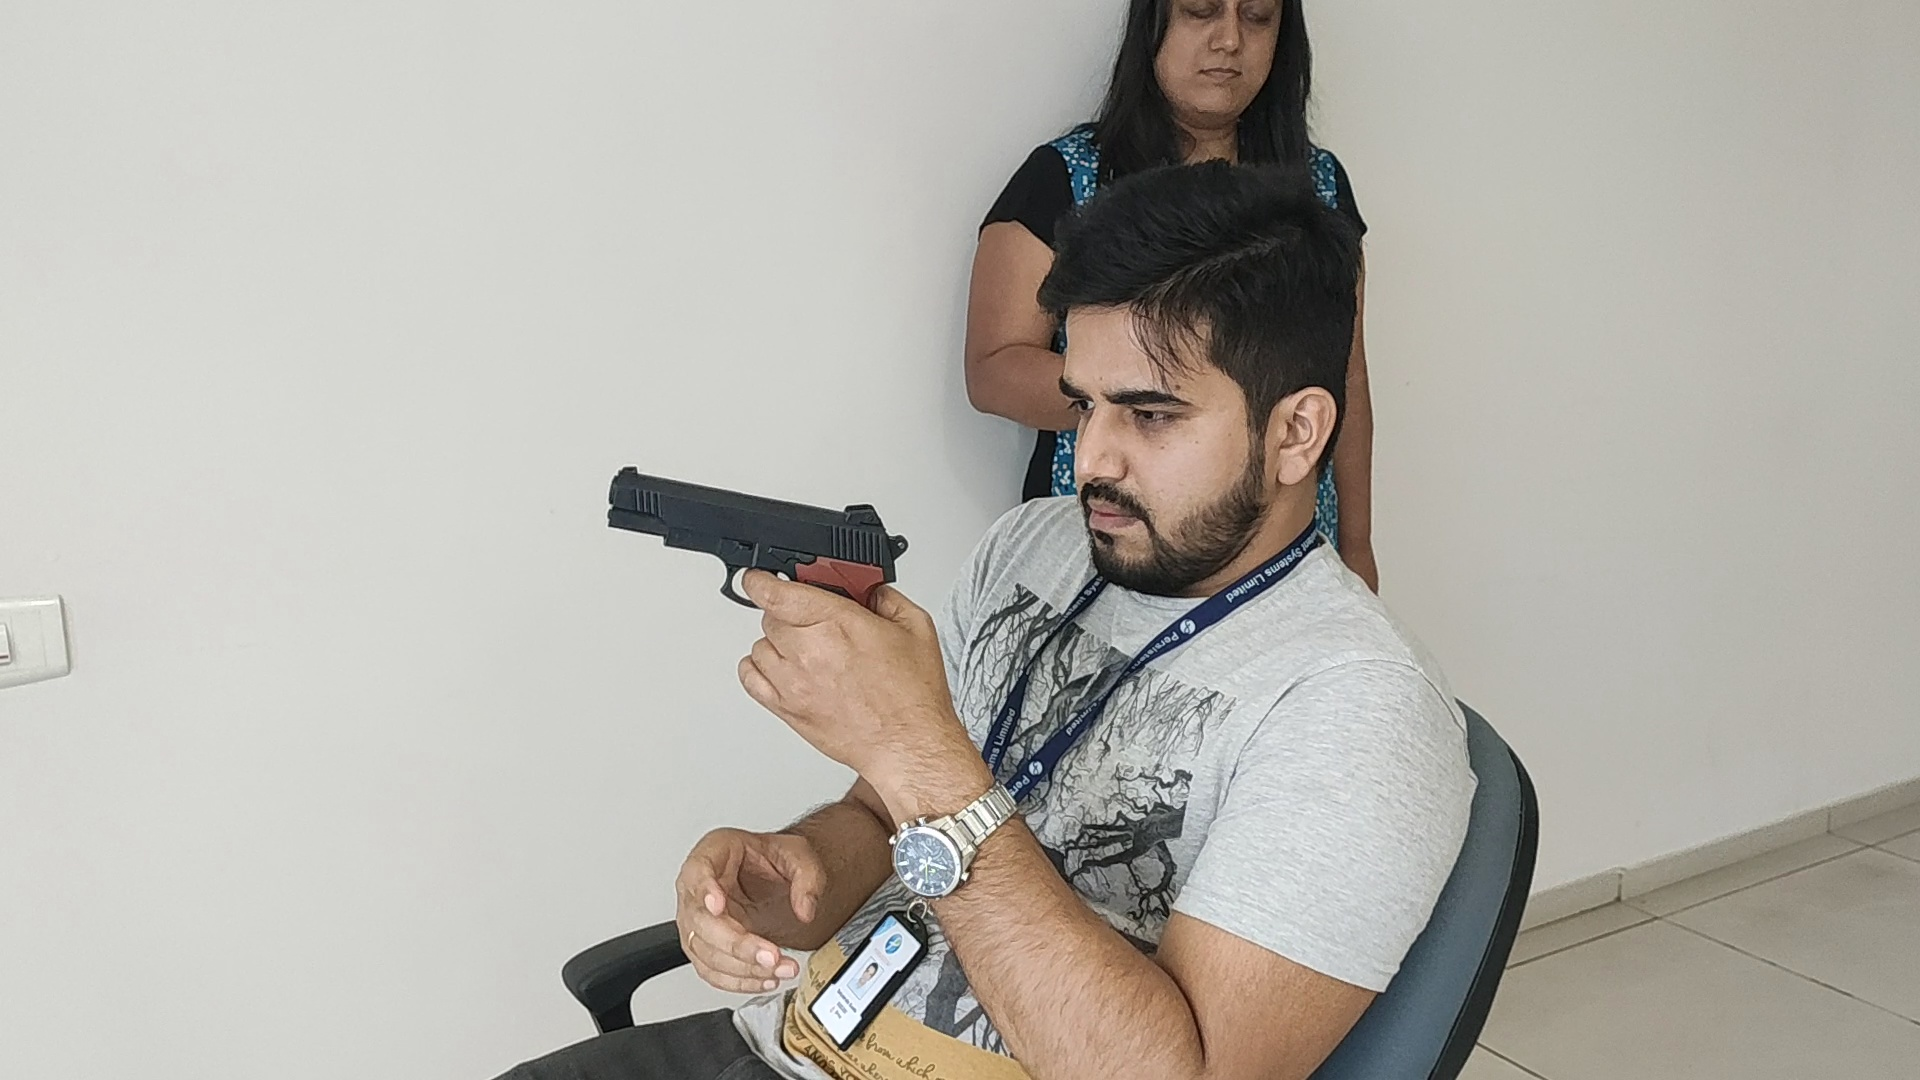gun: (604, 458, 909, 592)
